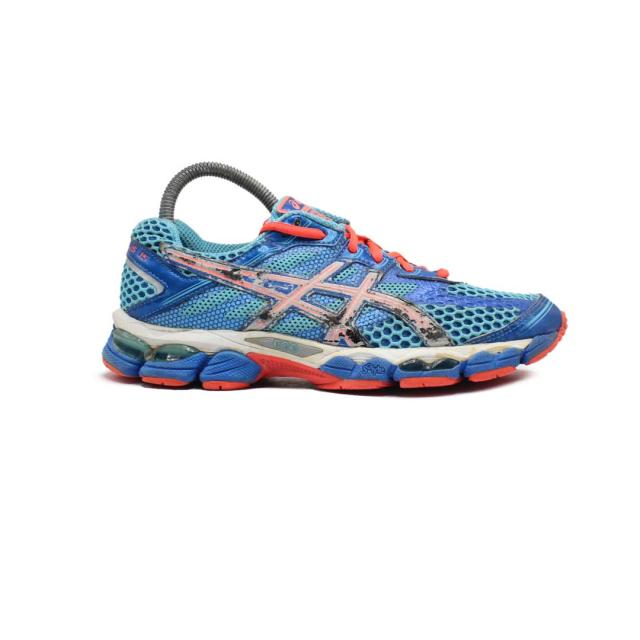heel: (122, 220, 216, 331)
midsole: (97, 307, 569, 397)
uppersole: (208, 196, 558, 348)
